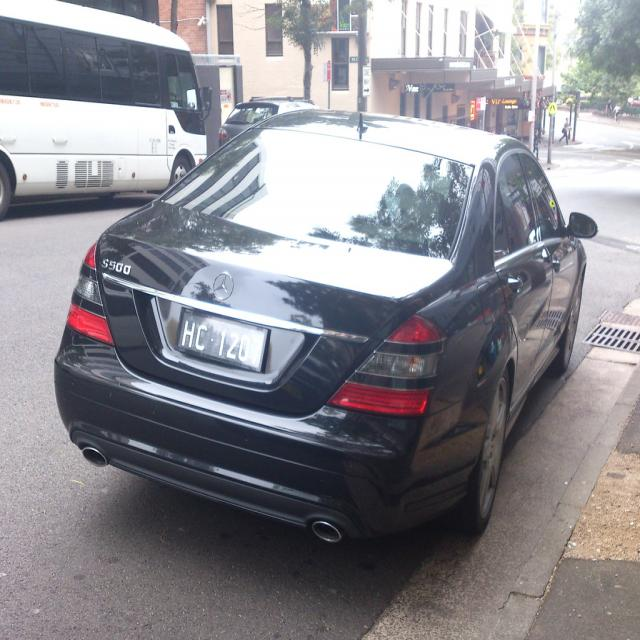other: (51, 109, 598, 552), (217, 92, 317, 147)
